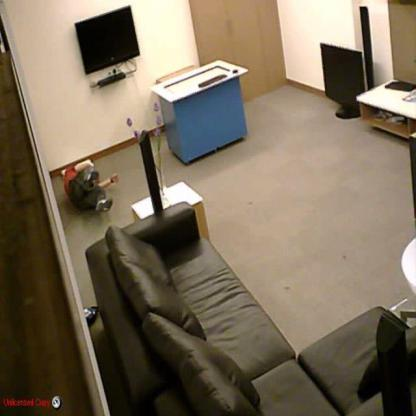Person: (64, 158, 120, 212)
